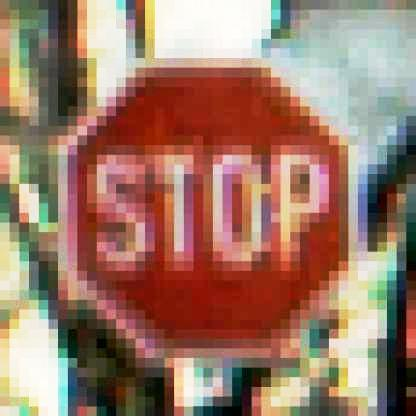Stop Sign: (57, 50, 360, 363)
